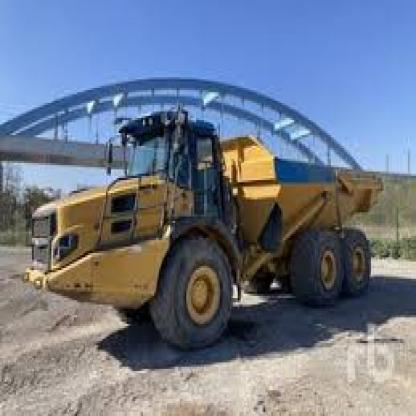dump_truck: (18, 101, 382, 345)
